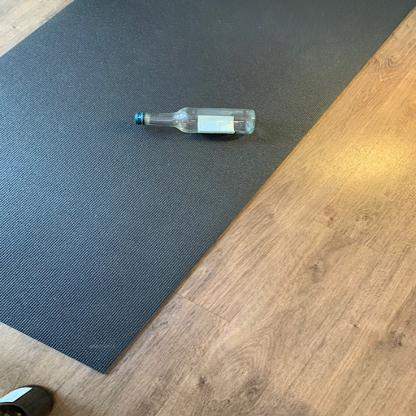trash: (135, 107, 255, 136)
